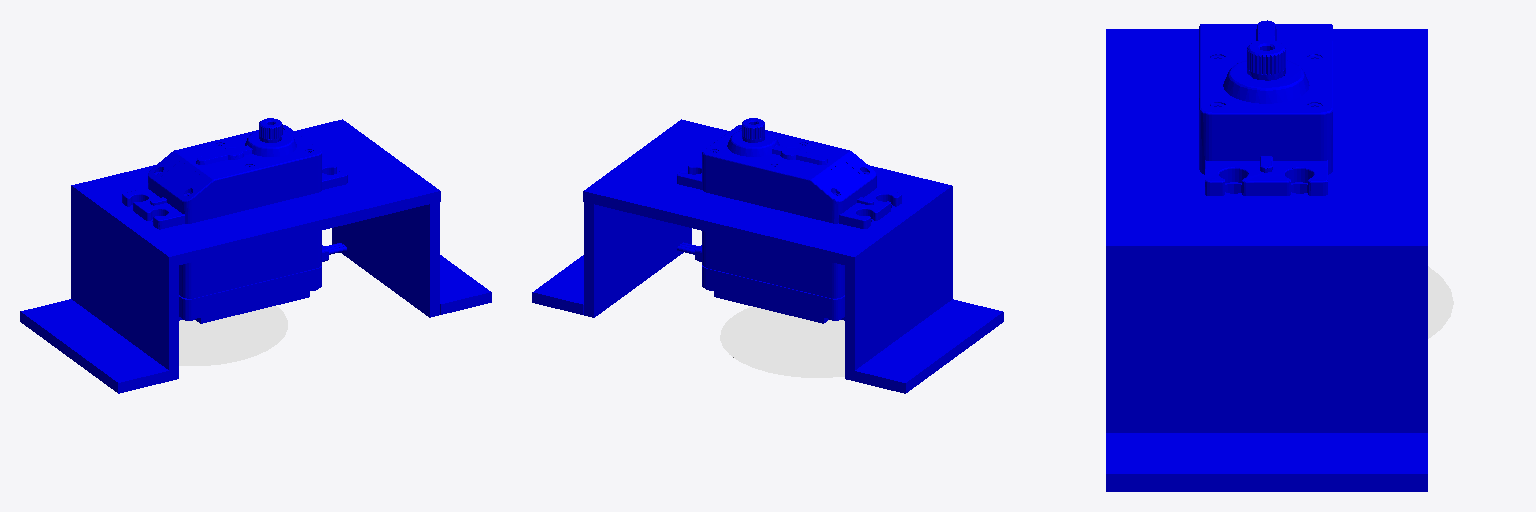
URDF robot description (pandt_robot):
<?xml version="1.0"?>
<robot name="pandt_robot">
	<link name="world"/>

	<link name="base_link">
		<visual>
			<geometry>
				<cylinder length="0.00001" radius="0.5"/>
			</geometry>
			<material name="black">
				<color rgba="255 255 255 1"/>
			</material>
			<origin rpy="0 0 0" xyz="0 0 0.025"/>
		</visual>
	</link>
	<joint name="fixed" type="fixed">
		<parent link="world"/>
		<child link="base_link"/>
	</joint>

	<link name="pan_body">
		<visual>
			<geometry>
				<mesh filename="package://pandt_description/mesh/base_pat.stl"
					scale="0.02 0.02 0.02"/>
			</geometry>
			<material name="blue">
				<color rgba="0 0 1 1"/>
			</material>
			<origin rpy = "0 0 0" xyz="0 0 0.05"/>
		</visual>
	</link>
	<joint name="Pan" type="continuous">
		<parent link="base_link"/>
		<child link= "pan_body"/>
		<origin rpy="0 0 0" xyz="0 0 0"/>
		<axis xyz="0 0 1"/>
	</joint>


</robot>

--- Facts derived from the render (not from the file) ---
Views: 3 orthographic renders of the robot side by side, from view 1: azimuth 30°, elevation 25°; view 2: azimuth 150°, elevation 25°; view 3: azimuth 270°, elevation 25°.
Model pandt_robot with 3 links and 2 joints (1 continuous, 1 fixed), rooted at world, posed all joints at 0.
Visible links, largest first — view 1: pan_body, base_link; view 2: pan_body, base_link; view 3: pan_body, base_link.
Boxes of the visible links, x1,y1,x2,y2 form: pan_body: [20, 118, 491, 393]; base_link: [179, 306, 287, 365]; pan_body: [532, 118, 1003, 393]; base_link: [720, 306, 844, 377]; pan_body: [1106, 20, 1427, 491]; base_link: [1428, 266, 1453, 338].
Bounding box of the posed robot: 2.2 × 1.08 × 1.07 m (x, y, z).
1 mesh visuals loaded from 1 distinct referenced files (1 binary STL).